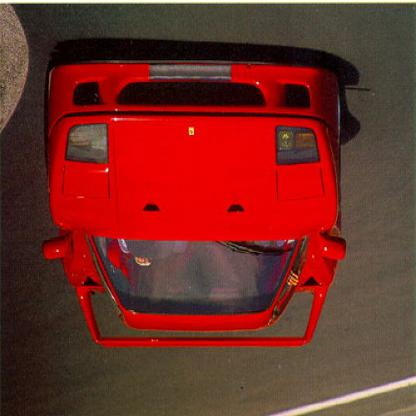car: (42, 51, 347, 351)
